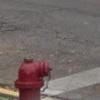Hydrant: (11, 47, 60, 100)
